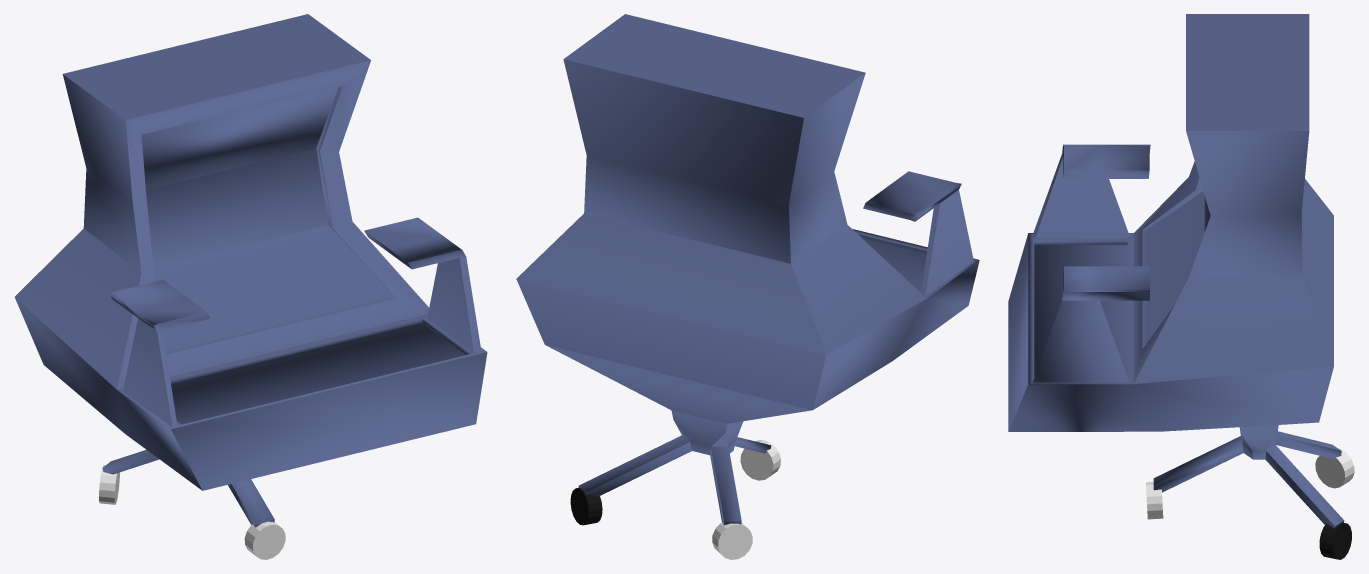
Rendered from Chair_Office.fbx.
The picture shows the model from 3 angles, left to right: view 1: azimuth 30°, elevation 25°; view 2: azimuth 150°, elevation 25°; view 3: azimuth 270°, elevation 25°; orthographic projection. The views are drawn at different scales.
Visible parts, largest first — view 1: Chair, Wheel.002, Wheel.001; view 2: Chair, Wheel.001, Wheel.002, Wheel; view 3: Chair, Wheel.001, Wheel, Wheel.002.
Boxes of the visible parts, x1,y1,x2,y2 form: Chair: [14, 14, 487, 527]; Wheel.002: [244, 521, 285, 559]; Wheel.001: [99, 465, 119, 504]; Chair: [516, 14, 979, 525]; Wheel.001: [712, 522, 752, 559]; Wheel.002: [740, 440, 780, 480]; Wheel: [570, 487, 602, 525]; Chair: [1008, 14, 1344, 528]; Wheel.001: [1315, 448, 1354, 488]; Wheel: [1319, 522, 1351, 559]; Wheel.002: [1146, 482, 1163, 519].
Size of the model in its own units: 66.33 by 91.1 by 64.27.
